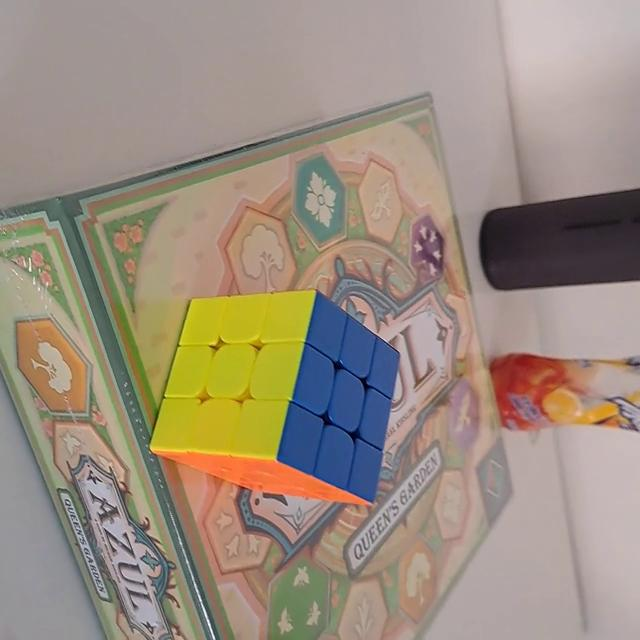rubix_cube: (146, 288, 402, 510)
